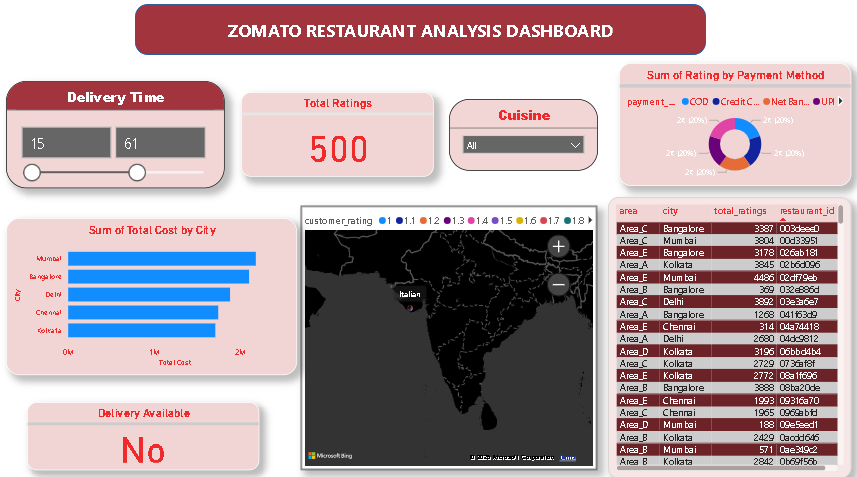

What the dashboard file says about the page in this screenshot:
{"tool":"powerbi","page":{"name":"Restaurants","canvas":[1280,720],"ordinal":3},"visuals":[{"type":"barChart","title":"Sum of Total Cost by City","fields":{"Category":["Zomato_Restaurants -updated csv.city"],"Y":["Sum(Zomato_Orders -updated csv.total_cost)"]},"box":[13.2,326.3,425.9,229.8],"z":0},{"type":"slicer","title":"Delivery Time","fields":{"Values":["Zomato_Orders -updated csv.delivery_time"]},"box":[13.2,125.9,320.5,156.6],"z":1000},{"type":"slicer","title":"Cuisine","fields":{"Values":["Zomato_Restaurants -updated csv.cuisine"]},"box":[661.5,152.2,218,105.4],"z":2000},{"type":"map","fields":{"Series":["Zomato_Orders -updated csv.customer_rating"],"Category":["Zomato_Restaurants -updated csv.cuisine"]},"box":[445,308.2,433.4,385.9],"z":3000},{"type":"card","title":"Total Ratings","fields":{"Values":["CountNonNull(Zomato_Restaurants -updated csv.avg_rating)"]},"box":[357.1,142,282.4,124.4],"z":4000},{"type":"donutChart","title":"Sum of Rating by Payment Method","fields":{"Y":["Sum(Zomato_Restaurants -updated csv.avg_rating)"],"Category":["Zomato_Orders -updated csv.payment_method"]},"box":[910.2,99.5,339.5,180],"z":5000},{"type":"card","title":"Delivery Available","fields":{"Values":["Min(Zomato_Restaurants -updated csv.delivery_available)"]},"box":[43.9,595.6,339.5,99.5],"z":6000},{"type":"tableEx","fields":{"Values":["Zomato_Restaurants -updated csv.area","Zomato_Restaurants -updated csv.city","Zomato_Restaurants -updated csv.total_ratings","Zomato_Restaurants -updated csv.restaurant_id"]},"box":[894.2,295.2,355.7,411.8],"z":7000},{"type":"shape","box":[202,13.2,835.6,74.6],"z":7001}]}

Visuals, with their boxes in screenshot pixels (x1, y1, x2, y2), scaled from the page's 1280x720 canvas onto the 857x477 screenshot:
"Sum of Total Cost by City" barChart: left=9, top=216, right=294, bottom=368
"Delivery Time" slicer: left=9, top=83, right=223, bottom=187
"Cuisine" slicer: left=443, top=101, right=589, bottom=171
map - Zomato_Orders -updated csv.customer_rating x Zomato_Restaurants -updated csv.cuisine: left=298, top=204, right=588, bottom=460
"Total Ratings" card: left=239, top=94, right=428, bottom=176
"Sum of Rating by Payment Method" donutChart: left=609, top=66, right=837, bottom=185
"Delivery Available" card: left=29, top=395, right=257, bottom=461
tableEx - Zomato_Restaurants -updated csv.area x Zomato_Restaurants -updated csv.city: left=599, top=196, right=837, bottom=468
shape: left=135, top=9, right=695, bottom=58
